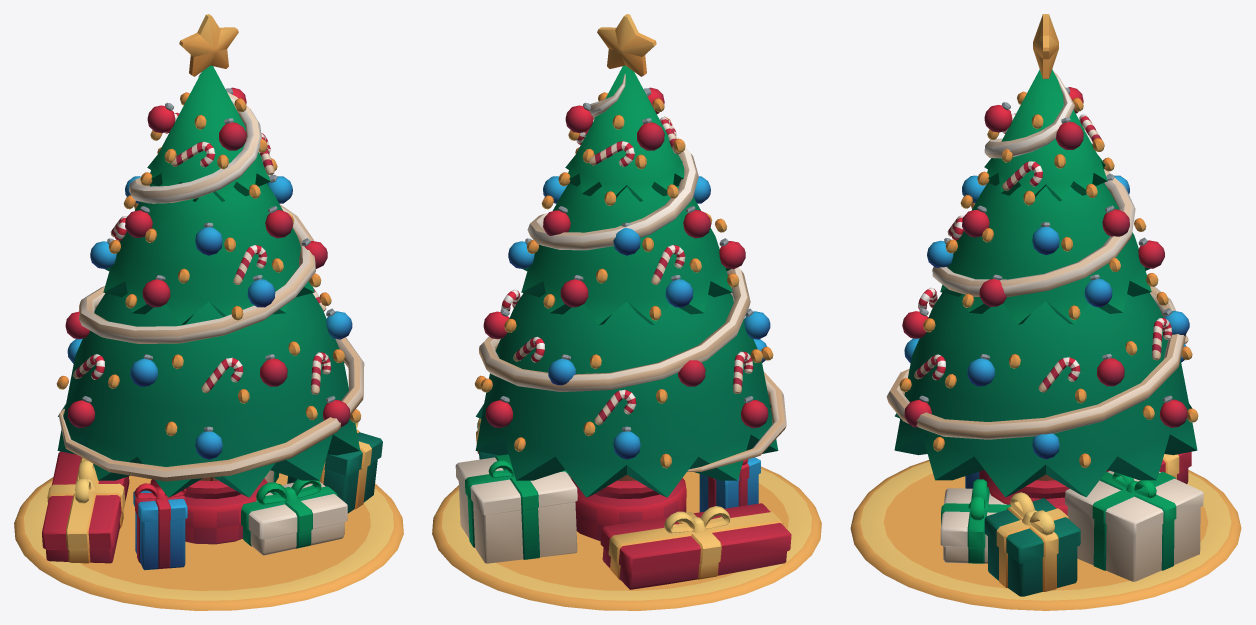
The model's file is christmas_tree_decorated.fbx.
The picture shows the model from 3 angles, left to right: view 1: azimuth 30°, elevation 25°; view 2: azimuth 150°, elevation 25°; view 3: azimuth 270°, elevation 25°; orthographic projection.
Parts seen in each view (by area): view 1: christmas_tree_decorated; view 2: christmas_tree_decorated; view 3: christmas_tree_decorated.
Part boxes in pixels (bbox=[...]): christmas_tree_decorated: bbox=[14, 14, 403, 610]; christmas_tree_decorated: bbox=[432, 14, 821, 610]; christmas_tree_decorated: bbox=[850, 14, 1241, 610].
Bounding box in the file's own units: 2.92 × 4.23 × 2.92.
